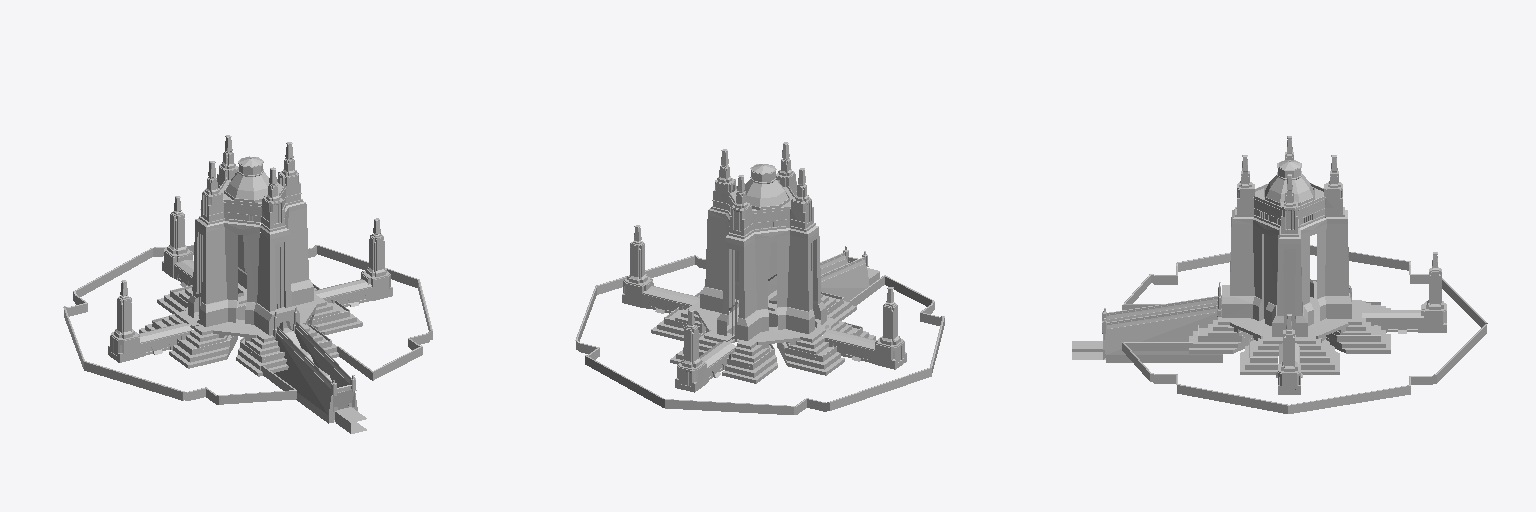
File: monument.obj
3 renders of one model, left to right at view 1: azimuth 30°, elevation 25°; view 2: azimuth 150°, elevation 25°; view 3: azimuth 270°, elevation 25°, orthographic.
Parts seen in each view (by area): view 1: Monument; view 2: Monument; view 3: Monument.
Boxes of the visible parts, x1,y1,x2,y2 form: Monument: [63, 135, 432, 433]; Monument: [575, 142, 944, 414]; Monument: [1072, 136, 1487, 413].
Bounding box in the file's own units: 40.86 × 23.28 × 43.69.